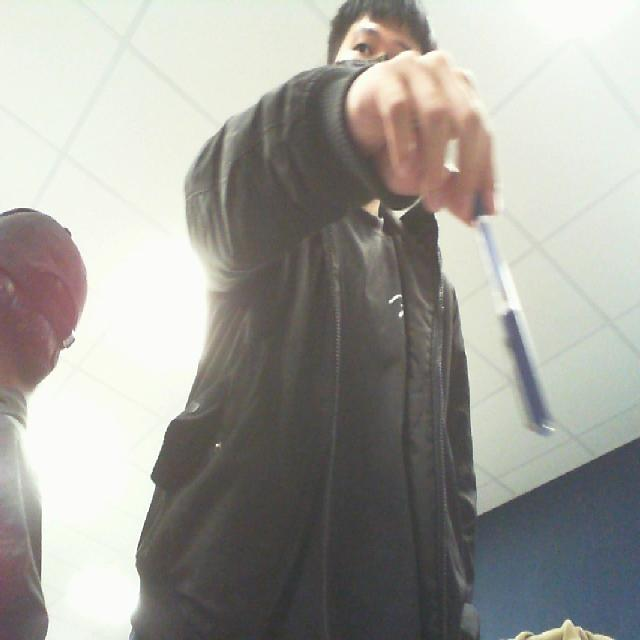Pen: (454, 188, 570, 454)
